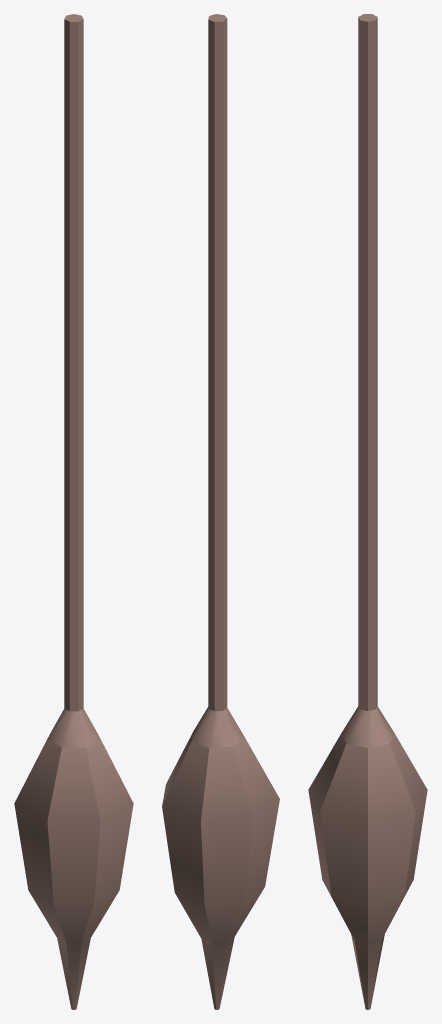
The model's file is Bloom.fbx.
The picture shows the model from 3 angles, left to right: view 1: azimuth 90°, elevation 25°; view 2: azimuth 150°, elevation 25°; view 3: azimuth 270°, elevation 25°; orthographic projection.
Parts seen in each view (by area): view 1: broom6; view 2: broom6; view 3: broom6.
Part boxes in pixels (x1,y1,x2,y2): broom6: (14,14,133,1009); broom6: (162,14,279,1009); broom6: (308,14,427,1009).
Bounding box in the file's own units: 40.75 × 383 × 41.8.
